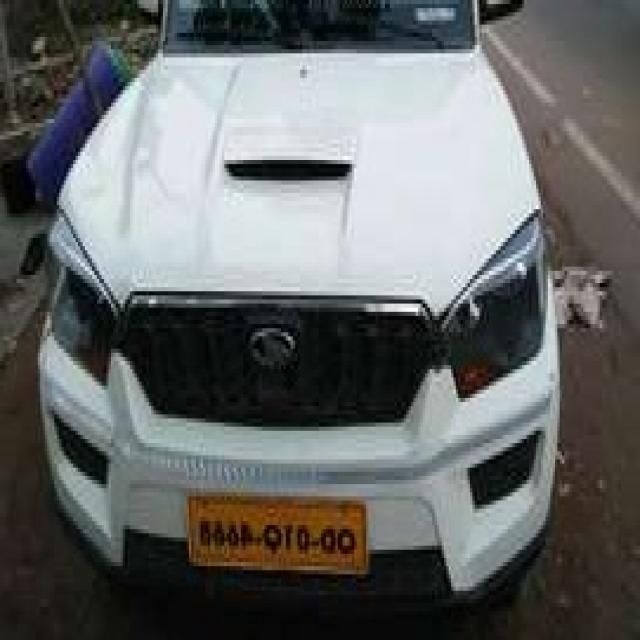license_plate: (182, 488, 372, 584)
